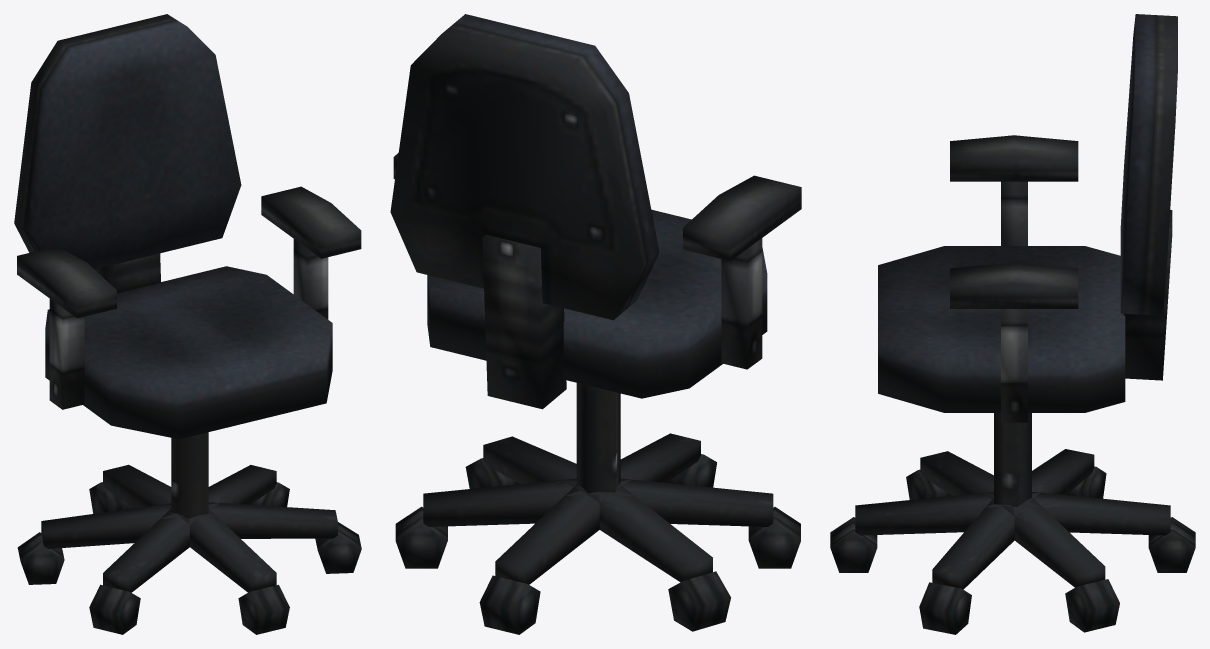
File: computer-chair.glb
The picture shows the model from 3 angles, left to right: view 1: azimuth 30°, elevation 25°; view 2: azimuth 150°, elevation 25°; view 3: azimuth 270°, elevation 25°; orthographic projection. The views are drawn at different scales.
Visible parts, largest first — view 1: Cube.002; view 2: Cube.002; view 3: Cube.002.
Boxes of the visible parts, x1,y1,x2,y2 form: Cube.002: (14, 14, 361, 634); Cube.002: (390, 14, 801, 634); Cube.002: (830, 14, 1195, 634).
Size of the model in its own units: 0.7891 by 1.3 by 0.8234.
1 material, 1 textured.
